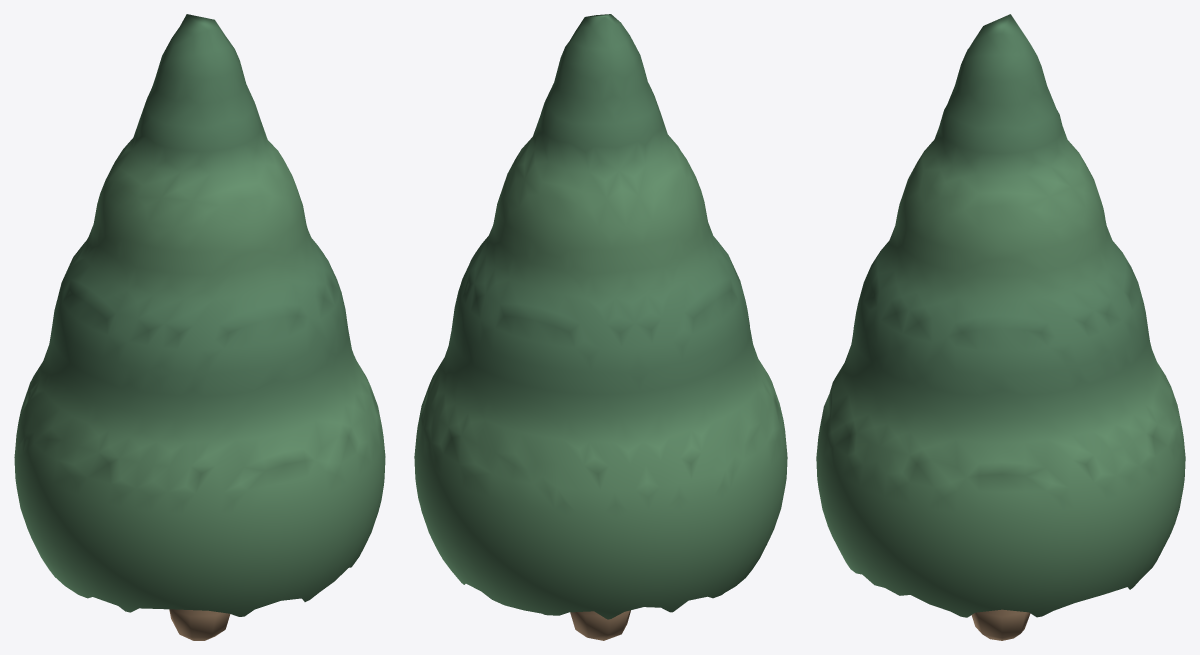
Rendered from snowpine.glb.
3 renders of one model, left to right at view 1: azimuth 30°, elevation 25°; view 2: azimuth 150°, elevation 25°; view 3: azimuth 270°, elevation 25°, orthographic.
Parts seen in each view (by area): view 1: snowpine; view 2: snowpine; view 3: snowpine.
Boxes of the visible parts, x1,y1,x2,y2 form: snowpine: (14,14,385,640); snowpine: (414,14,787,640); snowpine: (816,14,1185,640).
Bounding box in the file's own units: 59.98 × 111 × 59.98.
